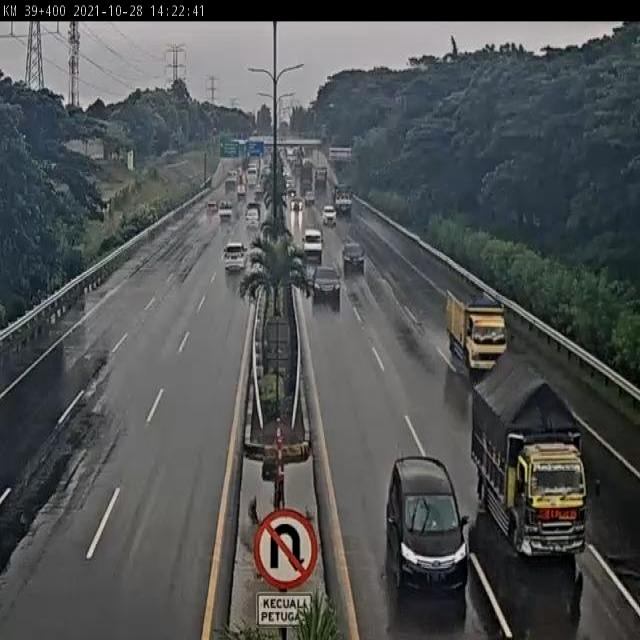Car: (384, 435, 478, 608), (313, 264, 342, 303), (341, 235, 368, 276), (300, 222, 326, 264), (220, 240, 248, 274), (319, 203, 340, 230), (202, 193, 218, 222), (288, 197, 306, 215)
Truck: (469, 350, 584, 564), (436, 281, 505, 372), (330, 177, 357, 215)
